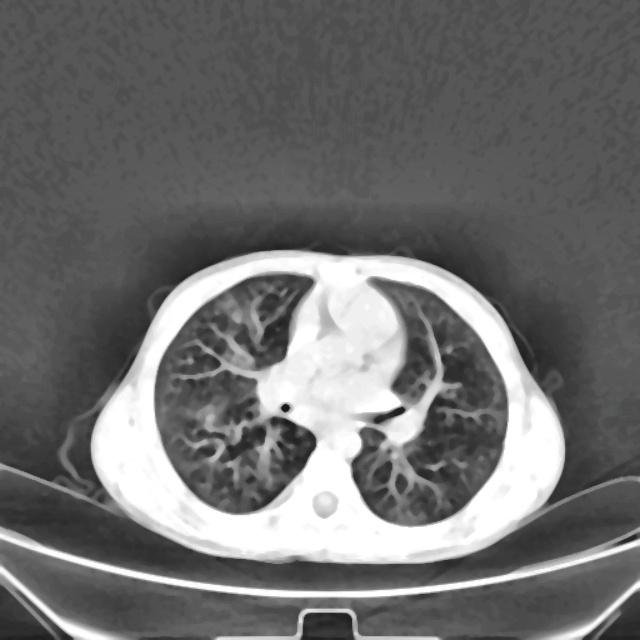covid: (88, 247, 566, 565)
